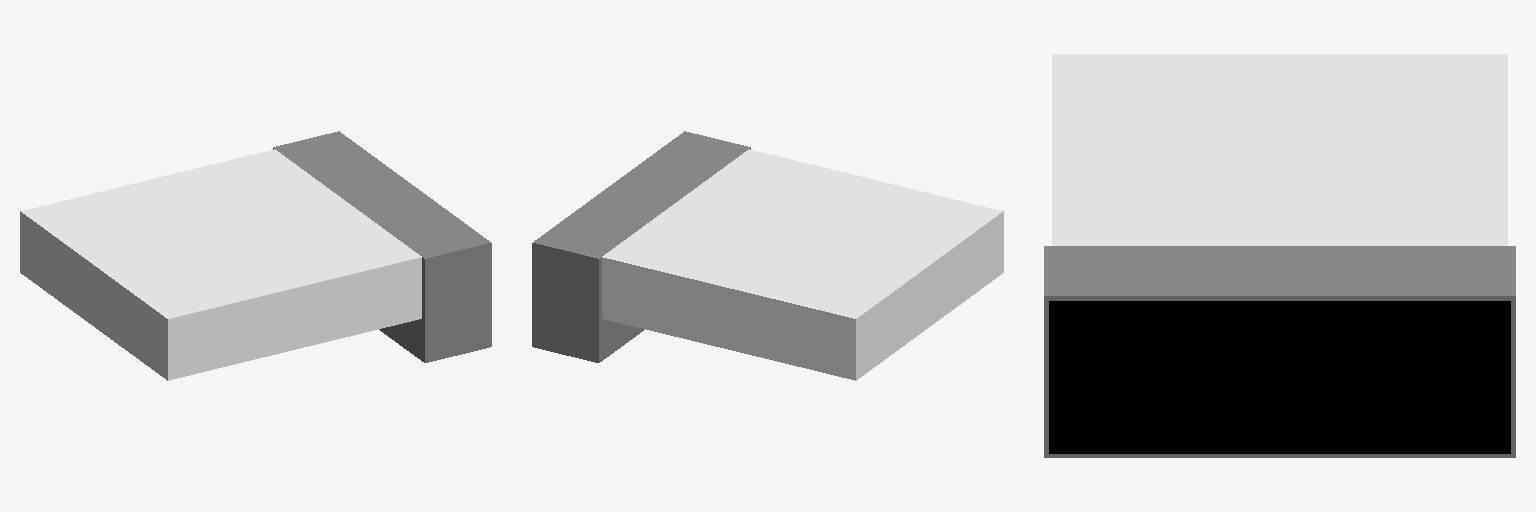
The robot description file, URDF, robot "xarm7":
?<?xml version="1.0" encoding="utf-8"?>
<robot name="xarm7">
  <material name="White">
    <color rgba="1 1 1 1" />
  </material>
  <material name="Silver">
    <color rgba="0.753 0.753 0.753 1" />
  </material>
  <material name="grey">
    <color rgba="0.6 0.6 0.6 1" />
  </material>
  <material name="Black">
    <color rgba="0 0 0 1" />
  </material>
  <link name="world" />
  <link name="link_base">
    <inertial>
      <origin rpy="0 0 0" xyz="-0.021131 -0.00163 0.056488" />
      <mass value="0.8855600357" />
      <inertia ixx="0.00305984541773796" ixy="0.000125649079564027" ixz="-0.000626734748948365" iyy="0.00377832446247339" iyz="0.000268803822109476" izz="0.00201213033869863" />
    </inertial>
    <visual>
      <geometry>
        <mesh filename="package://meshes/link_base.STL" scale="1 1 1" />
      </geometry>
      <material name="White" />
    </visual>
    <collision>
      <geometry>
        <mesh filename="package://meshes/link_base.STL" scale="1 1 1" />
      </geometry>
    </collision>
  </link>
  <link name="link1">
    <inertial>
      <origin rpy="0 0 0" xyz="-0.004214 0.02821 -0.008779" />
      <mass value="0.4260300398" />
      <inertia ixx="0.00144438177812845" ixy="1.44985979204648E-05" ixz="2.21778136619832E-05" iyy="0.00121462112292647" iyz="-0.000252082012593746" izz="0.000987587496638298" />
    </inertial>
    <visual>
      <geometry>
        <mesh filename="package://meshes/link1.STL" scale="1 1 1" />
      </geometry>
      <material name="White" />
    </visual>
    <collision>
      <geometry>
        <mesh filename="package://meshes/link1.STL" scale="1 1 1" />
      </geometry>
    </collision>
  </link>
  <link name="link2">
    <inertial>
      <origin rpy="0 0 0" xyz="-3.3E-05 -0.12849 0.026337" />
      <mass value="0.5609499812" />
      <inertia ixx="0.00319150509312749" ixy="3.35890285896312E-06" ixz="2.5123320028797E-06" iyy="0.00174679921474308" iyz="-0.00102409790270031" izz="0.00234999600797892" />
    </inertial>
    <visual>
      <geometry>
        <mesh filename="package://meshes/link2.STL" scale="1 1 1" />
      </geometry>
      <material name="White" />
    </visual>
    <collision>
      <geometry>
        <mesh filename="package://meshes/link2.STL" scale="1 1 1" />
      </geometry>
    </collision>
  </link>
  <link name="link3">
    <inertial>
      <origin rpy="0 0 0" xyz="0.04223 -0.023258 -0.009667" />
      <mass value="0.4446299672" />
      <inertia ixx="0.001152143930085" ixy="0.00018947638454847" ixz="-0.000176192494109273" iyy="0.00106839323416352" iyz="0.000115088478196412" izz="0.00108346377965063" />
    </inertial>
    <visual>
      <geometry>
        <mesh filename="package://meshes/link3.STL" scale="1 1 1" />
      </geometry>
      <material name="White" />
    </visual>
    <collision>
      <geometry>
        <mesh filename="package://meshes/link3.STL" scale="1 1 1" />
      </geometry>
    </collision>
  </link>
  <link name="link4">
    <inertial>
      <origin rpy="0 0 0" xyz="0.067148 -0.10732 0.024479" />
      <mass value="0.5238699913" />
      <inertia ixx="0.00260330177843571" ixy="0.00053378997836262" ixz="0.000363140628905967" iyy="0.00176489935256541" iyz="-0.000832529040053487" izz="0.00224309950135648" />
    </inertial>
    <visual>
      <geometry>
        <mesh filename="package://meshes/link4.STL" scale="1 1 1" />
      </geometry>
      <material name="White" />
    </visual>
    <collision>
      <geometry>
        <mesh filename="package://meshes/link4.STL" scale="1 1 1" />
      </geometry>
    </collision>
  </link>
  <link name="link5">
    <inertial>
      <origin rpy="0 0 0" xyz="-0.000234 0.036705 -0.080064" />
      <mass value="0.1855400056" />
      <inertia ixx="0.000995531328953803" ixy="4.20790200905685E-07" ixz="1.04559330793563E-06" iyy="0.000885264365933836" iyz="-0.000256806437391788" izz="0.000350474991137162" />
    </inertial>
    <visual>
      <geometry>
        <mesh filename="package://meshes/link5.STL" scale="1 1 1" />
      </geometry>
      <material name="White" />
    </visual>
    <collision>
      <geometry>
        <mesh filename="package://meshes/link5.STL" scale="1 1 1" />
      </geometry>
    </collision>
  </link>
  <link name="link6">
    <inertial>
      <origin rpy="0 0 0" xyz="0.058911 0.028469 0.006843" />
      <mass value="0.3134399951" />
      <inertia ixx="0.000520339992363006" ixy="-0.000149890169268474" ixz="0.00011657992581604" iyy="0.000679680262692273" iyz="6.11599898547865E-05" izz="0.000783450086601079" />
    </inertial>
    <visual>
      <geometry>
        <mesh filename="package://meshes/link6.STL" scale="1 1 1" />
      </geometry>
      <material name="White" />
    </visual>
    <collision>
      <geometry>
        <mesh filename="package://meshes/link6.STL" scale="1 1 1" />
      </geometry>
    </collision>
  </link>
  <link name="link7">
    <inertial>
      <origin rpy="0 0 0" xyz="-1.6E-05 -0.004638 -0.012705" />
      <mass value="0.3146800101" />
      <inertia ixx="0.000169850056408904" ixy="1.11020789006488E-07" ixz="5.10078024262839E-08" iyy="0.000119240066851489" iyz="-2.12510076380568E-06" izz="0.000260320084635168" />
    </inertial>
    <visual>
      <geometry>
        <mesh filename="package://meshes/link7.STL" scale="1 1 1" />
      </geometry>
      <material name="Silver" />
    </visual>
    <collision>
      <geometry>
        <mesh filename="package://meshes/link7.STL" scale="1 1 1" />
      </geometry>
    </collision>
  </link>
  <!-- <link name="link_eef" /> -->
  <link name="vacum_eef" />
  <link name="camera_base">
    <visual>
      <origin xyz="-0.013 0 0" />
      <geometry>
        <box size="0.026 0.103 0.039" />
      </geometry>
      <material name="grey" />
    </visual>
  </link>
  <link name="camera_body">
    <visual>
      <geometry>
        <box size="0.0994 0.0996 0.023" />
      </geometry>
      <material name="White" />
    </visual>
  </link>
  <link name="camera_visor">
    <visual>
      <origin xyz="-0.0128 0 0" />
      <geometry>
        <box size="0.026 0.101 0.037" />
      </geometry>
      <material name="Black" />
    </visual>
  </link>
  <joint name="world_link_base_joint" type="fixed">
    <parent link="world" />
    <child link="link_base" />
  </joint>
  <joint name="joint1" type="revolute">
    <origin xyz="0 0 0.267" />
    <parent link="link_base" />
    <child link="link1" />
    <axis xyz="0 0 1" />
    <dynamics damping="10" friction="1" />
    <limit lower="-6.283185" upper="6.283185" effort="1000" velocity="1000" />
  </joint>
  <joint name="joint2" type="revolute">
    <origin rpy="-1.5708 0 0" />
    <parent link="link1" />
    <child link="link2" />
    <axis xyz="0 0 1" />
    <dynamics damping="10" friction="1" />
    <limit lower="-2.059" upper="2.0944" effort="1000" velocity="1000" />
  </joint>
  <joint name="joint3" type="revolute">
    <origin rpy="-4.712385 0 0" xyz="0 -0.293 0" />
    <parent link="link2" />
    <child link="link3" />
    <axis xyz="0 0 1" />
    <dynamics damping="5" friction="1" />
    <limit lower="-6.283185" upper="6.283185" effort="1000" velocity="1000" />
  </joint>
  <joint name="joint4" type="revolute">
    <origin rpy="-4.712385 0 0" xyz="0.0525 0 0" />
    <parent link="link3" />
    <child link="link4" />
    <axis xyz="0 0 1" />
    <dynamics damping="5" friction="1" />
    <limit lower="-0.19198" upper="3.927" effort="1000" velocity="1000" />
  </joint>
  <joint name="joint5" type="revolute">
    <origin rpy="-4.712385 0 0" xyz="0.0775 -0.3425 0" />
    <parent link="link4" />
    <child link="link5" />
    <axis xyz="0 0 1" />
    <dynamics damping="5" friction="1" />
    <limit lower="-6.283185" upper="6.283185" effort="1000" velocity="1000" />
  </joint>
  <joint name="joint6" type="revolute">
    <origin rpy="-4.712385 0 0" />
    <parent link="link5" />
    <child link="link6" />
    <axis xyz="0 0 1" />
    <dynamics damping="2" friction="1" />
    <limit lower="-1.69297" upper="3.141593" effort="1000" velocity="1000" />
  </joint>
  <joint name="joint7" type="revolute">
    <origin rpy="-1.5708 0 0" xyz="0.076 0.097 0" />
    <parent link="link6" />
    <child link="link7" />
    <axis xyz="0 0 1" />
    <dynamics damping="2" friction="1" />
    <limit lower="-6.283185" upper="6.283185" effort="1000" velocity="1000" />
  </joint>
  <!-- <joint name="link7_link_eef_joint" type="fixed">
    <parent link="link7" />
    <child link="link_eef" />
  </joint> -->
  <joint name="link7_vacum_eef_joint" type="fixed">
    <origin xyz="0 0 0.0915" />
    <parent link="link7" />
    <child link="vacum_eef" />
  </joint>
  <joint name="link_base_camera_base_joint" type="fixed">
    <origin xyz="-0.13 -0.29 0.33" />
    <parent link="link_base" />
    <child link="camera_base" />
  </joint>
  <joint name="camera_base_camera_body_joint" type="fixed">
    <origin xyz="-0.0757 0 0.008" />
    <parent link="camera_base" />
    <child link="camera_body" />
  </joint>
  <joint name="camera_base_camera_visor_joint" type="fixed">
    <parent link="camera_base" />
    <child link="camera_visor" />
  </joint>
  <gazebo>
  <plugin filename="libgazebo_ros_control.so" name="gazebo_ros_control">
    <robotNamespace>/xarm</robotNamespace>
    <!-- <controlPeriod>0.0001</controlPeriod> -->
    <robotSimType>gazebo_ros_control/DefaultRobotHWSim</robotSimType>
    <legacyModeNS>true</legacyModeNS>
    <!-- <preserveWorldVelocity>true</preserveWorldVelocity> -->
  </plugin>
</gazebo>
<transmission name="tran1">
  <type>transmission_interface/SimpleTransmission</type>
  <joint name="joint1">
    <hardwareInterface>hardware_interface/PositionJointInterface</hardwareInterface>
  </joint>
  <actuator name="motor1">
    <hardwareInterface>hardware_interface/PositionJointInterface</hardwareInterface>
    <mechanicalReduction>100</mechanicalReduction>
  </actuator>
</transmission>
<transmission name="tran2">
  <type>transmission_interface/SimpleTransmission</type>
  <joint name="joint2">
    <hardwareInterface>hardware_interface/PositionJointInterface</hardwareInterface>
  </joint>
  <actuator name="motor2">
    <hardwareInterface>hardware_interface/PositionJointInterface</hardwareInterface>
    <mechanicalReduction>100</mechanicalReduction>
  </actuator>
</transmission>
<transmission name="tran3">
  <type>transmission_interface/SimpleTransmission</type>
  <joint name="joint3">
    <hardwareInterface>hardware_interface/PositionJointInterface</hardwareInterface>
  </joint>
  <actuator name="motor3">
    <hardwareInterface>hardware_interface/PositionJointInterface</hardwareInterface>
    <mechanicalReduction>100</mechanicalReduction>
  </actuator>
</transmission>
<transmission name="tran4">
  <type>transmission_interface/SimpleTransmission</type>
  <joint name="joint4">
    <hardwareInterface>hardware_interface/PositionJointInterface</hardwareInterface>
  </joint>
  <actuator name="motor3">
    <hardwareInterface>hardware_interface/PositionJointInterface</hardwareInterface>
    <mechanicalReduction>100</mechanicalReduction>
  </actuator>
</transmission>
<transmission name="tran5">
  <type>transmission_interface/SimpleTransmission</type>
  <joint name="joint5">
    <hardwareInterface>hardware_interface/PositionJointInterface</hardwareInterface>
  </joint>
  <actuator name="motor5">
    <hardwareInterface>hardware_interface/PositionJointInterface</hardwareInterface>
    <mechanicalReduction>100</mechanicalReduction>
  </actuator>
</transmission>
<transmission name="tran6">
  <type>transmission_interface/SimpleTransmission</type>
  <joint name="joint6">
    <hardwareInterface>hardware_interface/PositionJointInterface</hardwareInterface>
  </joint>
  <actuator name="motor6">
    <hardwareInterface>hardware_interface/PositionJointInterface</hardwareInterface>
    <mechanicalReduction>100</mechanicalReduction>
  </actuator>
</transmission>
<transmission name="tran7">
  <type>transmission_interface/SimpleTransmission</type>
  <joint name="joint7">
    <hardwareInterface>hardware_interface/PositionJointInterface</hardwareInterface>
  </joint>
  <actuator name="motor7">
    <hardwareInterface>hardware_interface/PositionJointInterface</hardwareInterface>
    <mechanicalReduction>100</mechanicalReduction>
  </actuator>
</transmission>
<gazebo reference="link_base">
  <selfCollide>true</selfCollide>
</gazebo>
<gazebo reference="link1">
  <selfCollide>true</selfCollide>
</gazebo>
<gazebo reference="link2">
  <selfCollide>true</selfCollide>
</gazebo>
<gazebo reference="link3">
  <selfCollide>true</selfCollide>
</gazebo>
<gazebo reference="link4">
  <selfCollide>true</selfCollide>
</gazebo>
<gazebo reference="link5">
  <selfCollide>true</selfCollide>
</gazebo>
<gazebo reference="link6">
  <selfCollide>true</selfCollide>
</gazebo>
<gazebo reference="link7">
  <selfCollide>true</selfCollide>
</gazebo>
</robot>

--- What the picture shows (computed from the rendered views, not written in the file) ---
The picture shows the robot from 3 angles, left to right: view 1: azimuth 30°, elevation 25°; view 2: azimuth 150°, elevation 25°; view 3: azimuth 270°, elevation 25°; orthographic projection.
Model xarm7 with 13 links and 12 joints (7 revolute, 5 fixed), rooted at world, posed all joints at 0.
Links seen in each view (by area): view 1: camera_body, camera_base; view 2: camera_body, camera_base; view 3: camera_body, camera_visor, camera_base.
Boxes of the visible links, box(x1,y1,x2,y2) form: camera_body: box(20, 149, 421, 380); camera_base: box(273, 131, 491, 362); camera_body: box(602, 149, 1003, 380); camera_base: box(532, 131, 750, 362); camera_body: box(1052, 54, 1507, 245); camera_visor: box(1049, 301, 1510, 453); camera_base: box(1044, 246, 1515, 457).
Size in the robot's own frame: 0.1256 by 0.103 by 0.039 metres.
Meshes: 8 distinct files referenced, 0 mesh visuals loaded (none loaded); not drawn: 8 (reference not matched to a file when rendering).